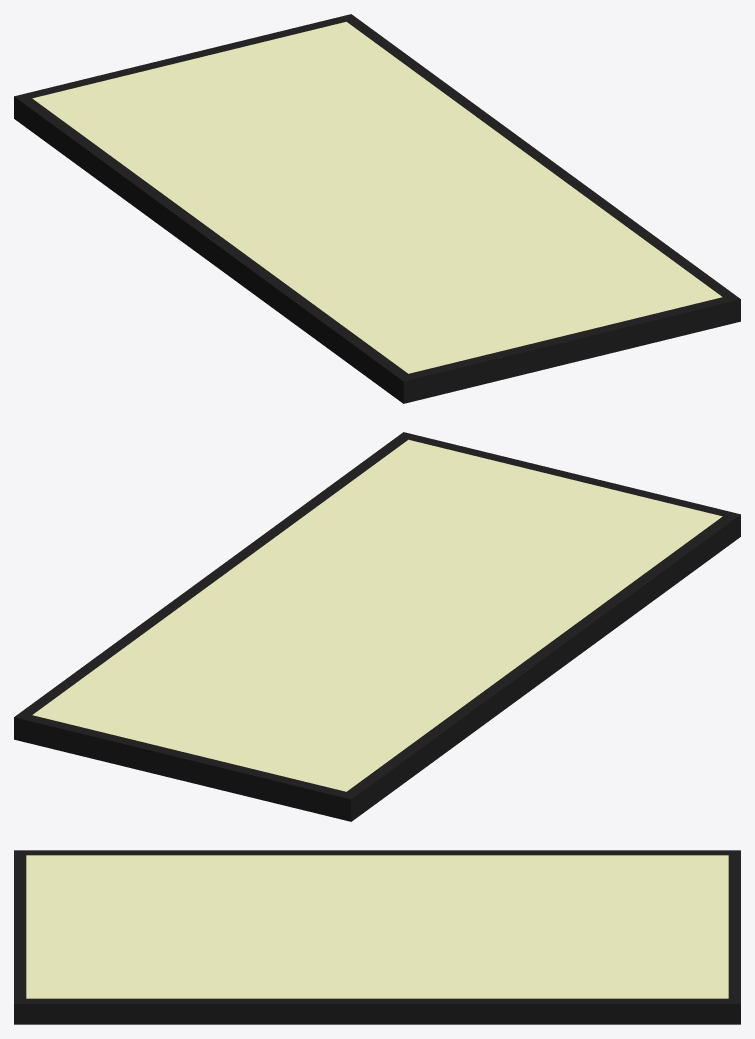
File: Asian_Prop_Tatami_Mat_Small_01.FBX
3 views of the same model, one above another, from view 1: azimuth 30°, elevation 25°; view 2: azimuth 150°, elevation 25°; view 3: azimuth 270°, elevation 25° (orthographic). The views are drawn at different scales.
Parts seen in each view (by area): view 1: Asian_Prop_Tatami_Mat_Small_01; view 2: Asian_Prop_Tatami_Mat_Small_01; view 3: Asian_Prop_Tatami_Mat_Small_01.
Boxes of the visible parts, x1,y1,x2,y2 form: Asian_Prop_Tatami_Mat_Small_01: (14, 14, 740, 403); Asian_Prop_Tatami_Mat_Small_01: (14, 432, 740, 821); Asian_Prop_Tatami_Mat_Small_01: (14, 850, 740, 1024).
Size of the model in its own units: 1292 by 82 by 2584.
